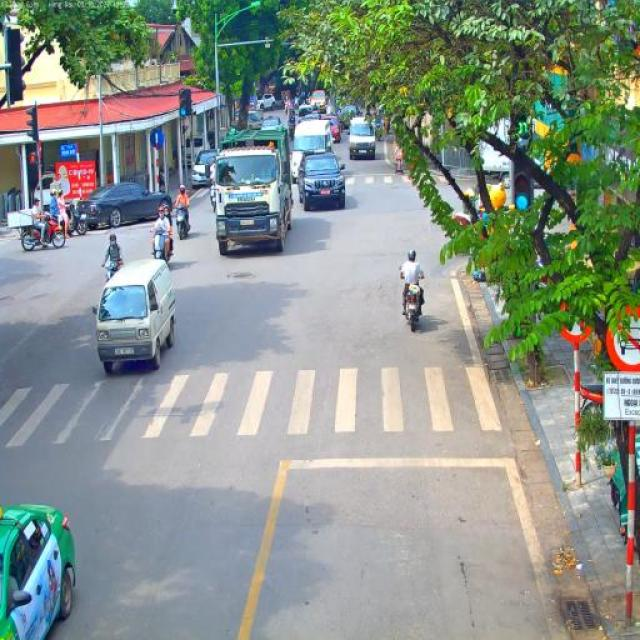car: (0, 504, 78, 640), (92, 258, 177, 373), (73, 182, 174, 229), (290, 119, 334, 188), (298, 150, 347, 211), (192, 148, 218, 188), (336, 104, 358, 130), (323, 114, 342, 144), (296, 104, 318, 124), (256, 93, 276, 111), (259, 116, 281, 132), (248, 110, 262, 130)
motorcycle: (18, 215, 68, 251), (404, 279, 424, 332), (62, 200, 88, 236), (150, 224, 172, 264), (100, 258, 122, 282), (175, 205, 190, 240), (209, 183, 216, 214), (288, 125, 297, 144), (373, 125, 382, 141), (288, 108, 294, 121), (284, 104, 288, 116)
truck: (212, 125, 294, 256), (479, 116, 513, 189), (348, 116, 377, 160), (309, 89, 327, 111)
